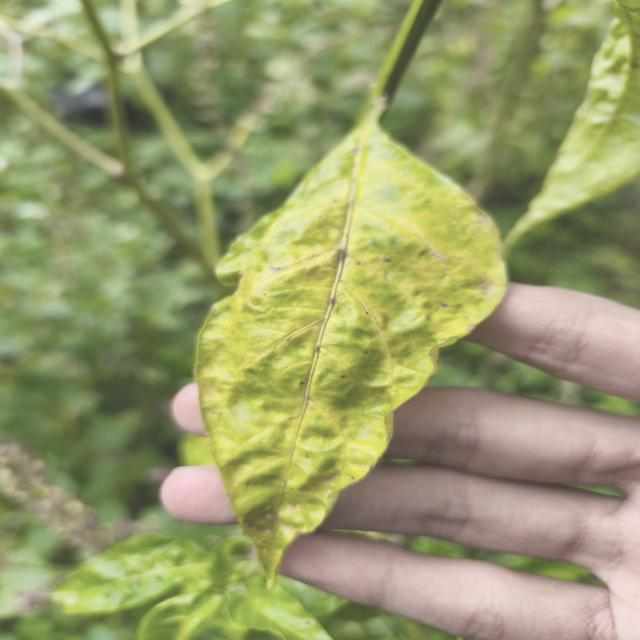Virus Kuning: (193, 119, 510, 590)
